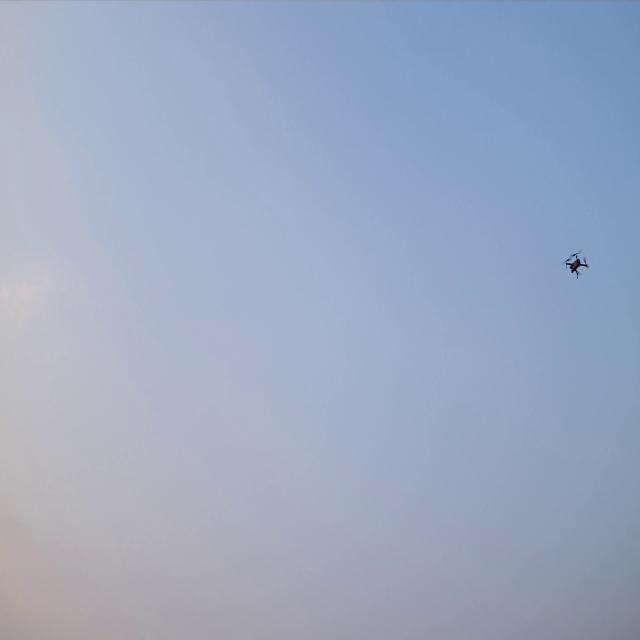UAV: (560, 248, 590, 282)
